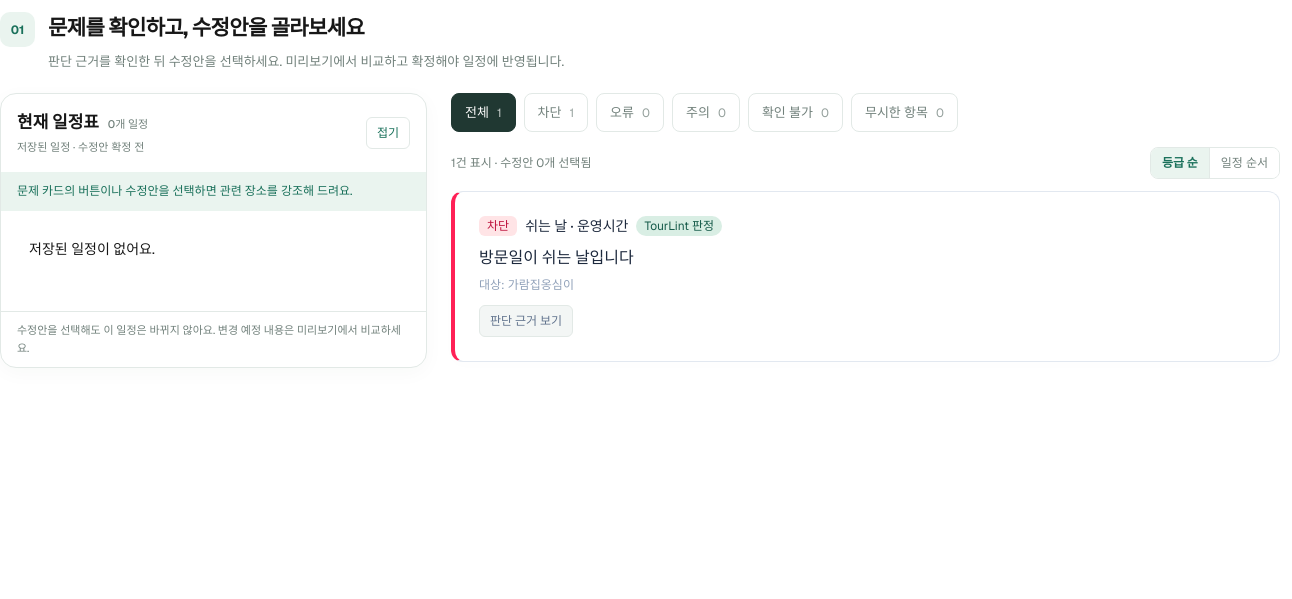
it: 판단 근거의 공사 원문 › 🔴 원문의 <br> 은 줄바꿈으로 되돌리고 태그 글자를 보이지 않는다 (UI-S3-012)
Click the button "판단 근거 보기": click(526, 321) [479,305,573,337]
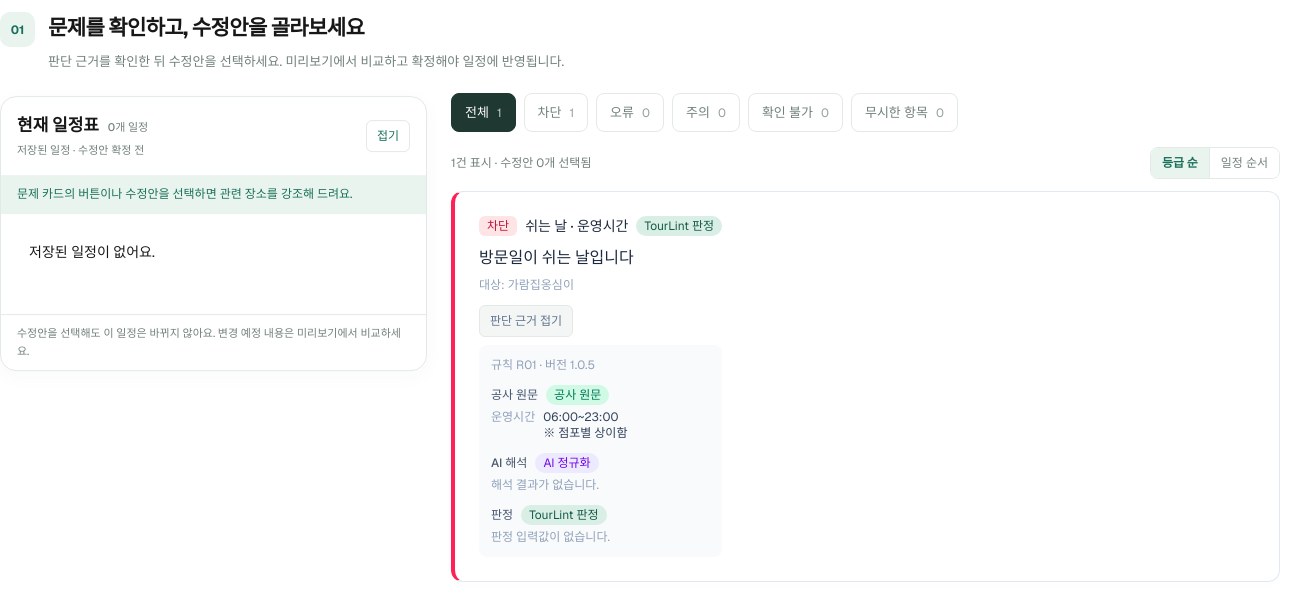
Now the element showing "공사 원문 공사 원문 운영시간 06:00~23:00 ※ 점포별 상이함" is shown, box [491,385,627,441]
